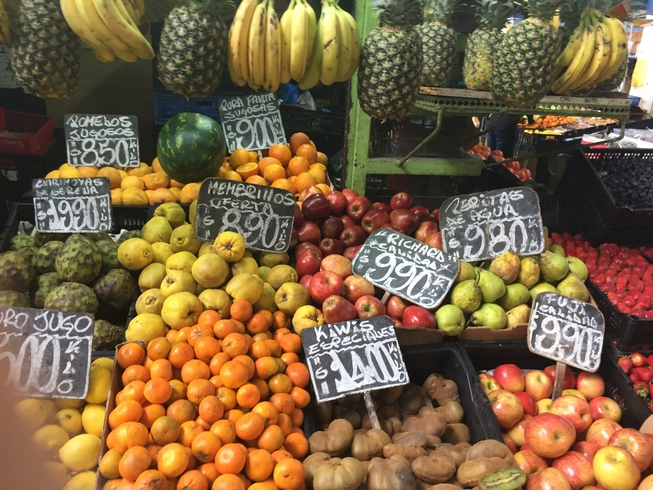precio: (191, 170, 318, 265), (296, 313, 423, 406), (350, 219, 469, 318), (1, 298, 99, 410), (436, 186, 558, 272), (517, 279, 615, 377), (29, 171, 125, 246), (213, 86, 291, 162), (64, 105, 152, 172)
